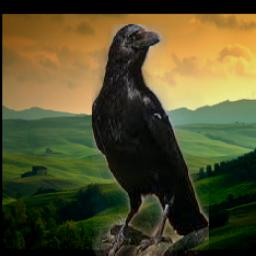Crow: (91, 24, 208, 256)
